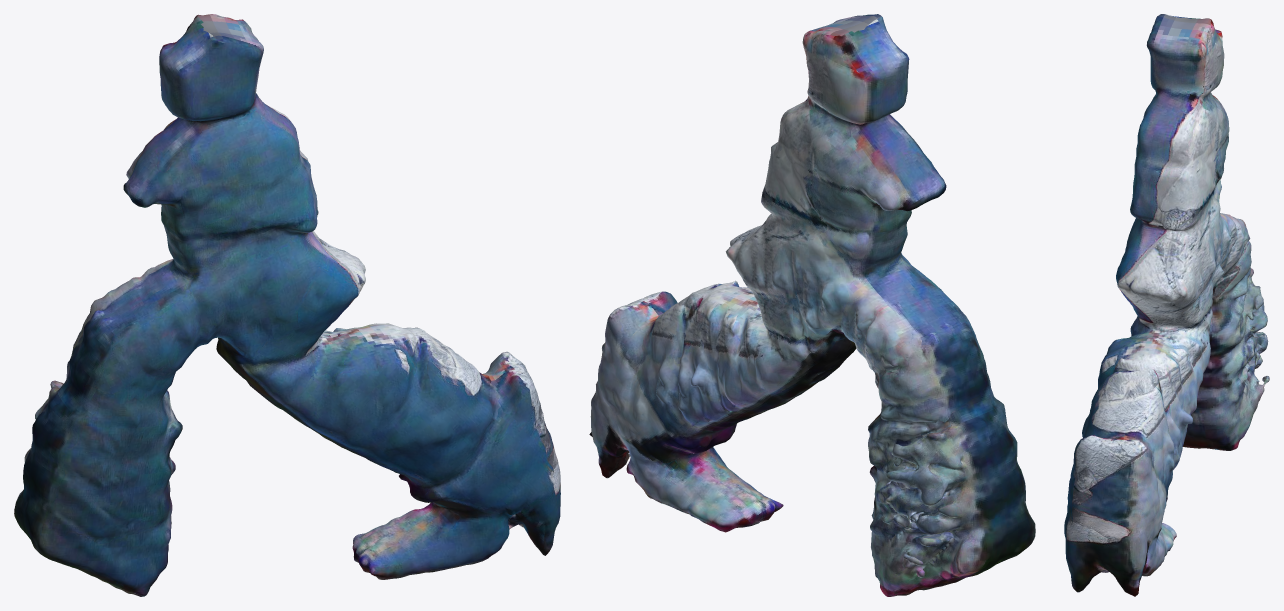
The model's file is Boccioni.glb.
The picture shows the model from 3 angles, left to right: view 1: azimuth 30°, elevation 25°; view 2: azimuth 150°, elevation 25°; view 3: azimuth 270°, elevation 25°; orthographic projection. The views are drawn at different scales.
Parts seen in each view (by area): view 1: Mesh1; view 2: Mesh1; view 3: Mesh1.
Part boxes in pixels (x1,y1,x2,y2): Mesh1: (14, 14, 560, 596); Mesh1: (589, 14, 1035, 596); Mesh1: (1064, 14, 1269, 596).
Size of the model in its own units: 1.08 by 1.2 by 0.473.
Materials: 1 (1 with a texture image).
